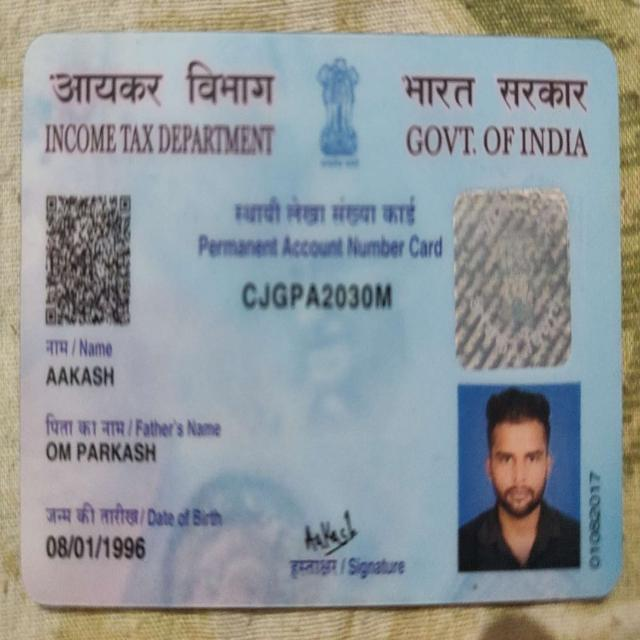pan_card: (24, 37, 620, 601)
